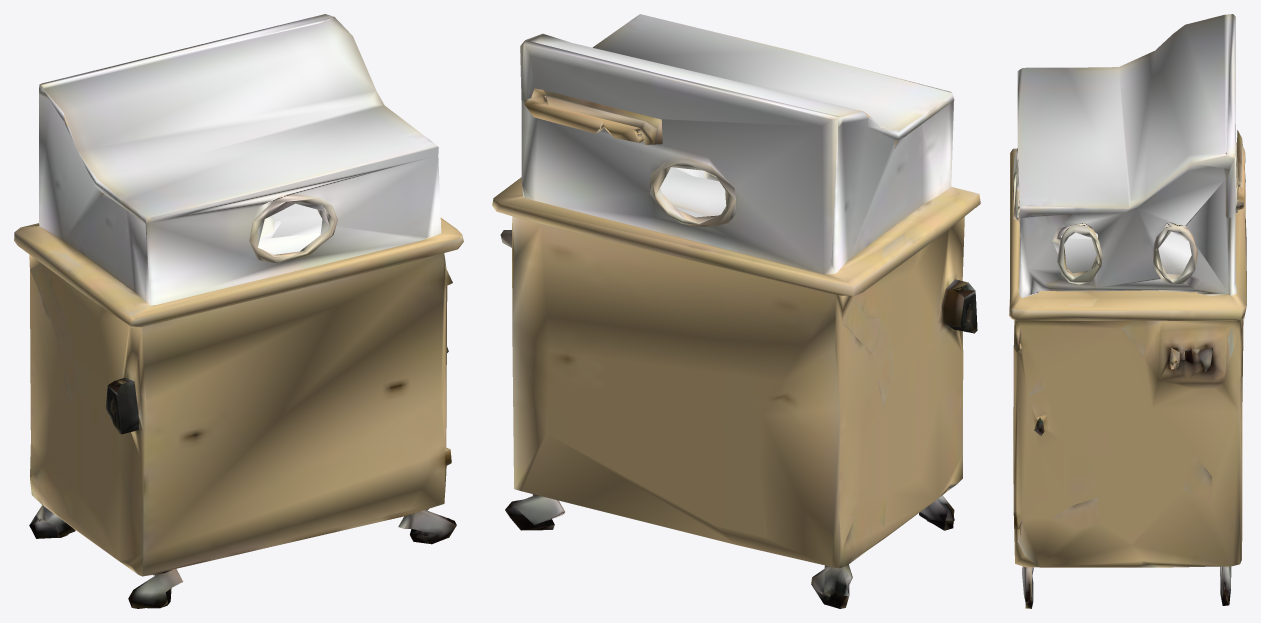
Rendered from incubadora_1967.movil.glb.
3 renders of one model, left to right at view 1: azimuth 30°, elevation 25°; view 2: azimuth 150°, elevation 25°; view 3: azimuth 270°, elevation 25°, orthographic. The views are drawn at different scales.
Parts seen in each view (by area): view 1: geometry_0; view 2: geometry_0; view 3: geometry_0.
Boxes of the visible parts, x1,y1,x2,y2 form: geometry_0: (14,14,463,608); geometry_0: (492,14,980,608); geometry_0: (1009,14,1246,608).
Bounding box in the file's own units: 0.9991 × 1.24 × 0.5959.
1 material, 1 textured.
